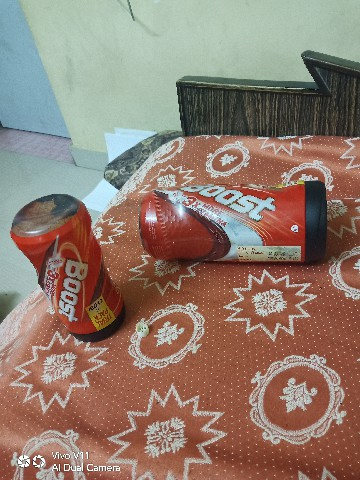boost big: (134, 171, 342, 269)
boost small: (10, 186, 126, 358)
